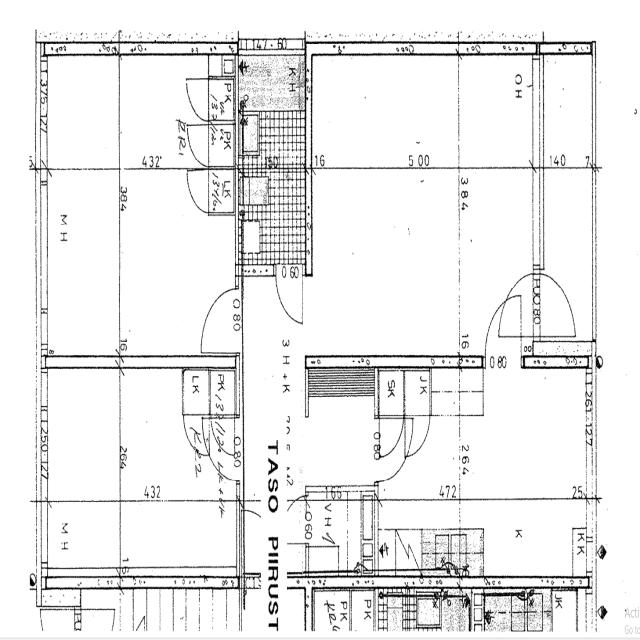door: (538, 268, 576, 340), (199, 286, 239, 354), (275, 260, 305, 325), (184, 166, 213, 218), (498, 289, 524, 341), (378, 412, 405, 462), (184, 75, 211, 124), (185, 125, 211, 168), (408, 412, 432, 456)
window: (529, 170, 545, 269), (40, 496, 52, 570), (235, 503, 245, 569)
zone: (312, 55, 454, 173), (119, 367, 214, 541), (41, 173, 122, 366), (40, 365, 123, 505), (118, 56, 209, 175), (39, 53, 121, 174), (458, 54, 536, 172), (474, 502, 590, 581), (239, 49, 306, 162), (303, 395, 377, 497), (42, 500, 122, 584), (540, 53, 595, 170), (305, 496, 369, 574), (208, 118, 235, 227), (206, 418, 242, 492), (80, 592, 122, 636), (312, 587, 350, 633), (141, 588, 174, 636), (209, 366, 239, 417), (376, 368, 406, 418), (208, 67, 235, 121), (183, 367, 210, 415), (404, 369, 431, 416), (550, 589, 578, 634), (209, 167, 235, 214), (122, 588, 148, 635), (208, 120, 235, 164), (350, 588, 375, 633)
